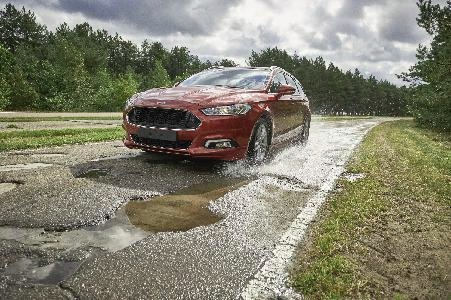pothole: (101, 192, 223, 233), (0, 160, 54, 172), (73, 166, 111, 178), (0, 178, 24, 194)
